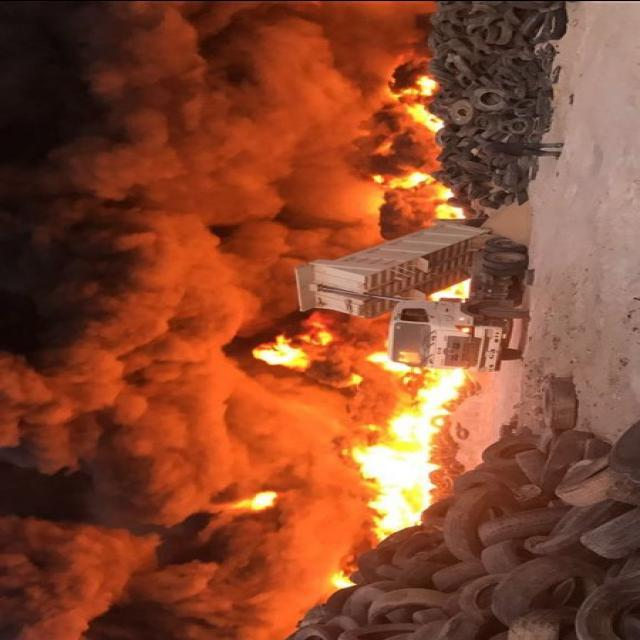Fire: (249, 74, 468, 584)
